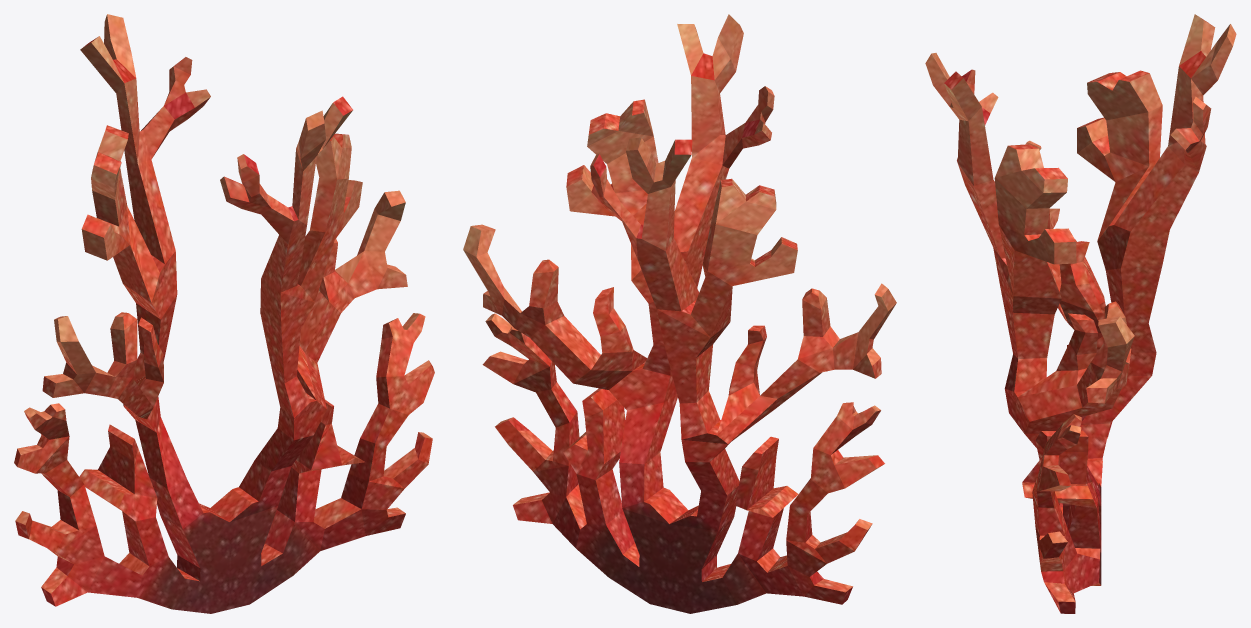
The model's file is runtime-coral-branch.glb.
3 renders of one model, left to right at view 1: azimuth 30°, elevation 25°; view 2: azimuth 150°, elevation 25°; view 3: azimuth 270°, elevation 25°, orthographic. The views are drawn at different scales.
Parts seen in each view (by area): view 1: Cube.044_0, Cube.046_1; view 2: Cube.046_1, Cube.044_0; view 3: Cube.046_1, Cube.044_0.
Part boxes in pixels (x1,y1,x2,y2): Cube.044_0: (14, 14, 229, 613); Cube.046_1: (210, 96, 434, 609); Cube.046_1: (463, 14, 774, 608); Cube.044_0: (590, 137, 896, 613); Cube.046_1: (925, 53, 1134, 613); Cube.044_0: (1026, 14, 1236, 514).
Bounding box in the file's own units: 7.51 × 9.37 × 4.97.
Materials: 1 (1 with a texture image).
